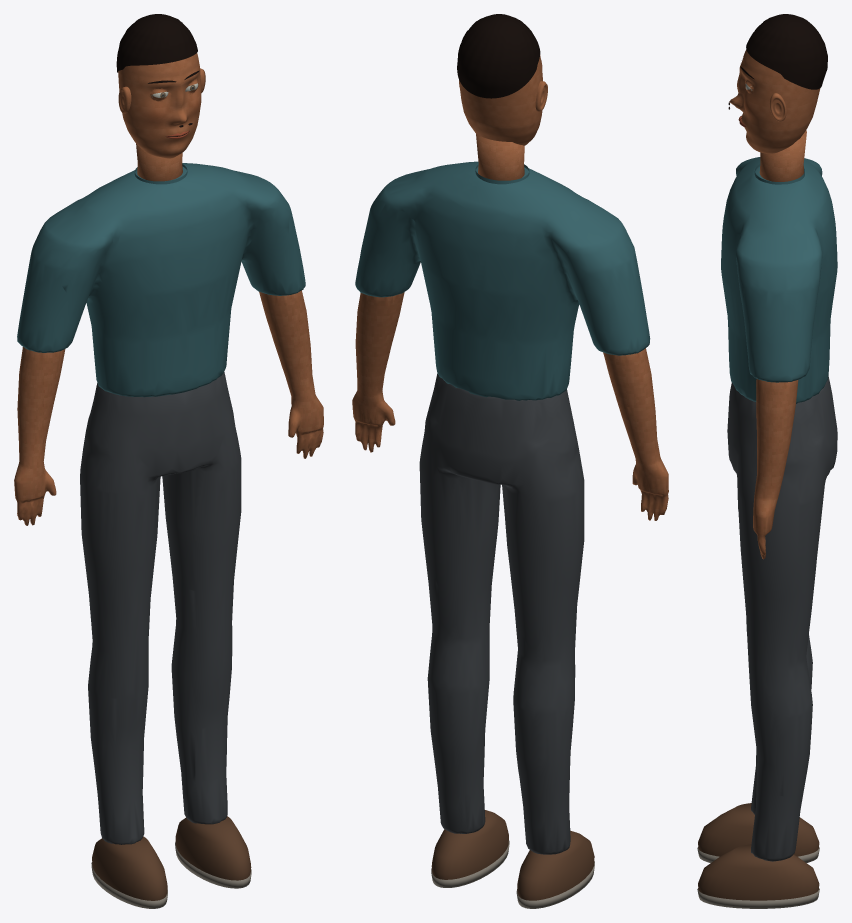
Rendered from fitted-human-skin-eyes-v1.glb.
3 views of the same model, side by side, from view 1: azimuth 30°, elevation 25°; view 2: azimuth 150°, elevation 25°; view 3: azimuth 270°, elevation 25° (orthographic). The views are drawn at different scales.
Parts seen in each view (by area): view 1: Trousers_fused_hip, Shirt_fused_shoulders, Head_continuous_anatomy, Forearm_hand_-1, Forearm_hand_1, Shoe_-1, Shoe_1, Hair_original_close_curl_surface, Neck, Sole_-1, Sole_1; view 2: Trousers_fused_hip, Shirt_fused_shoulders, Forearm_hand_-1, Hair_original_close_curl_surface, Forearm_hand_1, Head_continuous_anatomy, Shoe_-1, Shoe_1, Neck, Sole_-1, Sole_1; view 3: Trousers_fused_hip, Shirt_fused_shoulders, Head_continuous_anatomy, Forearm_hand_1, Shoe_1, Hair_original_close_curl_surface, Shoe_-1, Neck, Sole_1, Ear_Left, Sole_-1.
Part boxes in pixels (x1,y1,x2,y2): Trousers_fused_hip: (80, 372, 241, 844); Shirt_fused_shoulders: (17, 163, 305, 397); Head_continuous_anatomy: (118, 53, 201, 158); Forearm_hand_-1: (14, 347, 65, 525); Forearm_hand_1: (259, 290, 323, 458); Shoe_-1: (92, 836, 167, 900); Shoe_1: (175, 816, 251, 880); Hair_original_close_curl_surface: (116, 14, 197, 72); Neck: (136, 143, 182, 181); Sole_-1: (91, 862, 167, 908); Sole_1: (175, 842, 251, 888); Trousers_fused_hip: (419, 373, 584, 854); Shirt_fused_shoulders: (355, 161, 650, 400); Forearm_hand_-1: (603, 348, 668, 520); Hair_original_close_curl_surface: (457, 14, 540, 98); Forearm_hand_1: (352, 292, 404, 452); Head_continuous_anatomy: (459, 55, 542, 145); Shoe_-1: (517, 830, 594, 900); Shoe_1: (431, 810, 508, 879); Neck: (476, 133, 524, 180); Sole_-1: (516, 861, 594, 908); Sole_1: (431, 840, 509, 887); Trousers_fused_hip: (727, 375, 837, 861); Shirt_fused_shoulders: (721, 157, 837, 403); Head_continuous_anatomy: (729, 49, 820, 153); Forearm_hand_1: (753, 379, 798, 559); Shoe_1: (698, 844, 819, 900); Hair_original_close_curl_surface: (746, 14, 827, 89); Shoe_-1: (698, 803, 819, 856); Neck: (759, 130, 806, 181); Sole_1: (697, 888, 819, 908); Ear_Left: (769, 93, 786, 121); Sole_-1: (697, 847, 819, 862).
Size of the model in its own units: 0.6627 by 1.75 by 0.2586.
Materials: 26 (16 with a texture image).
